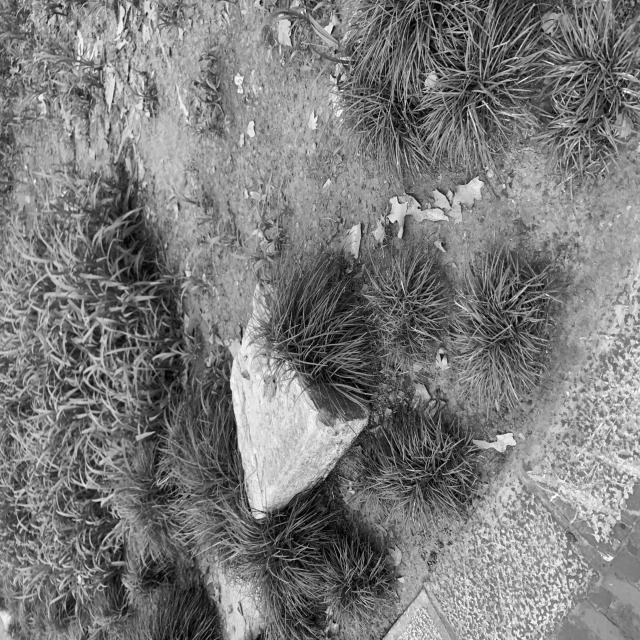Stone: (230, 300, 368, 518)
